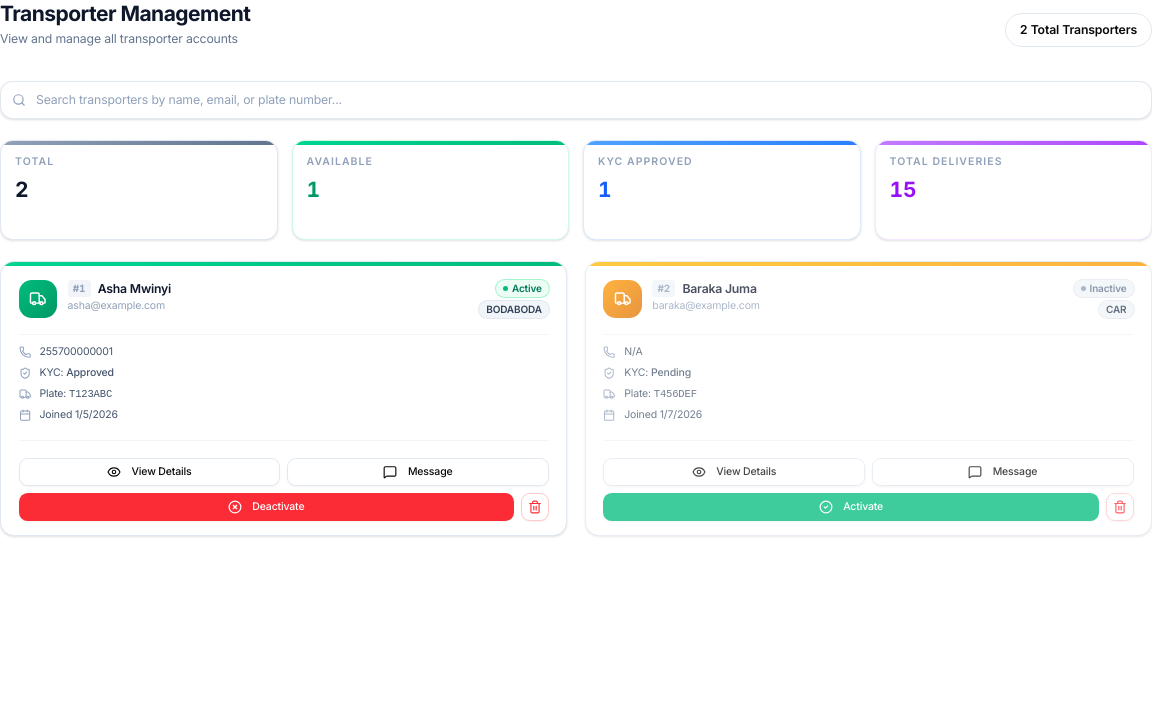
it: TransporterManagementTab › opens the details dialog for the transporter whose card was clicked
Expected: the heading "Asha Mwinyi" is shown, [98, 281, 171, 296]
Click the button "View Details" below "1/7/2026".
click(734, 472)  # box [603, 458, 865, 486]
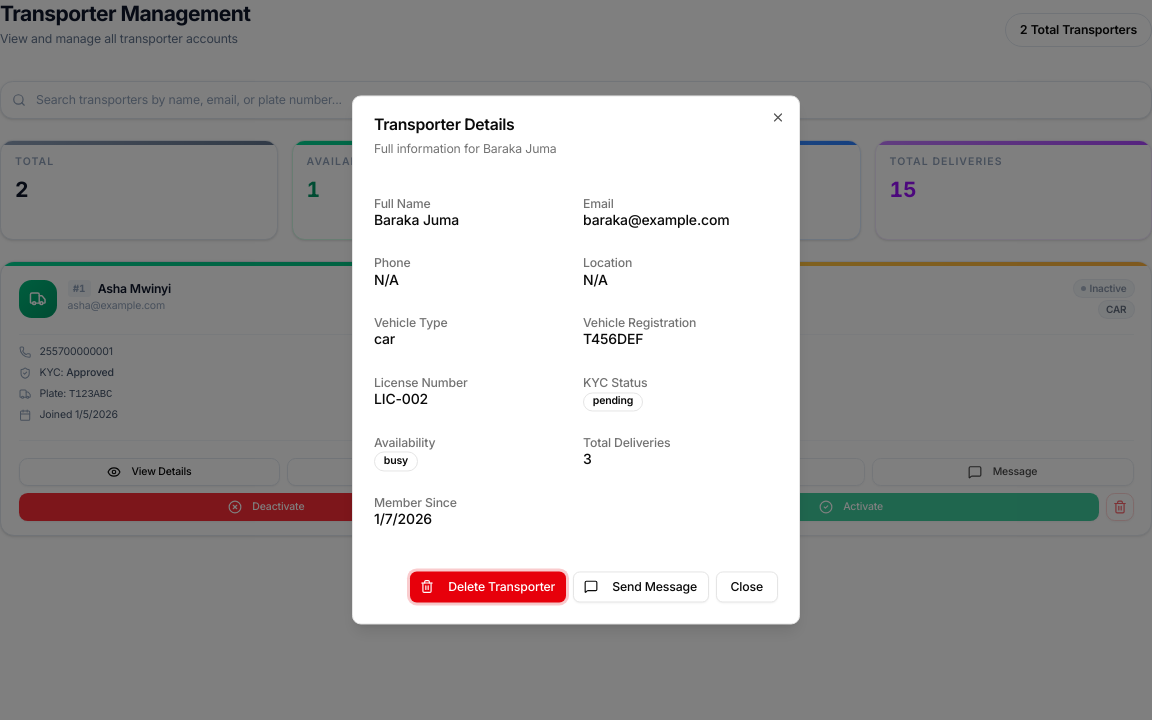
Result: the text "Full information for Baraka Juma" is shown at [374, 141, 556, 156]
